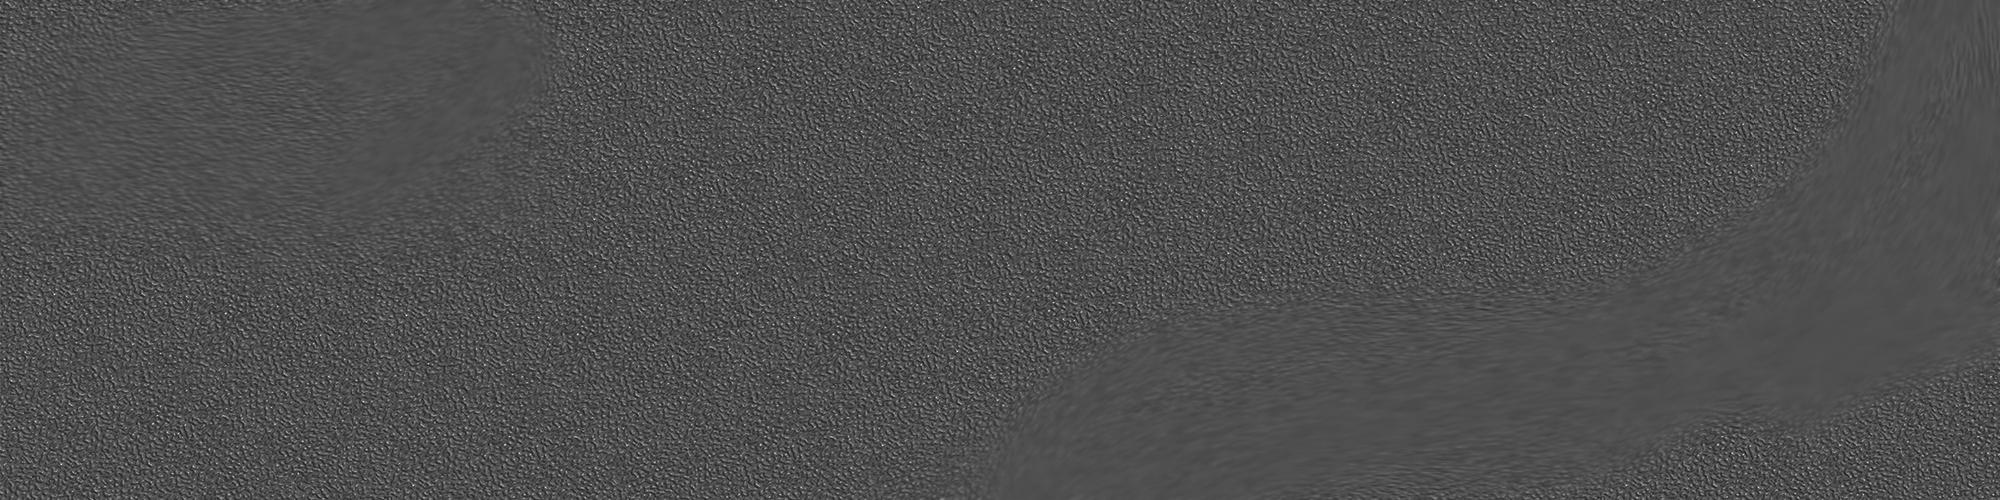Flow_Lines: (971, 14, 2000, 494), (6, 1, 565, 259)
